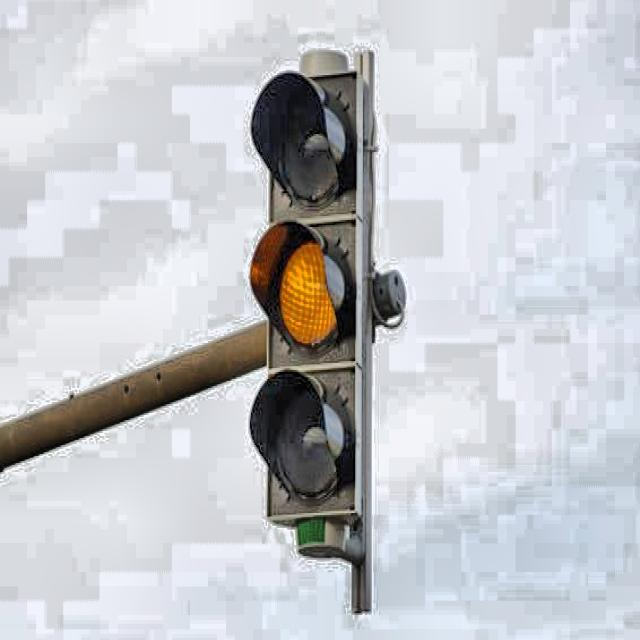yellow: (264, 66, 356, 514)
